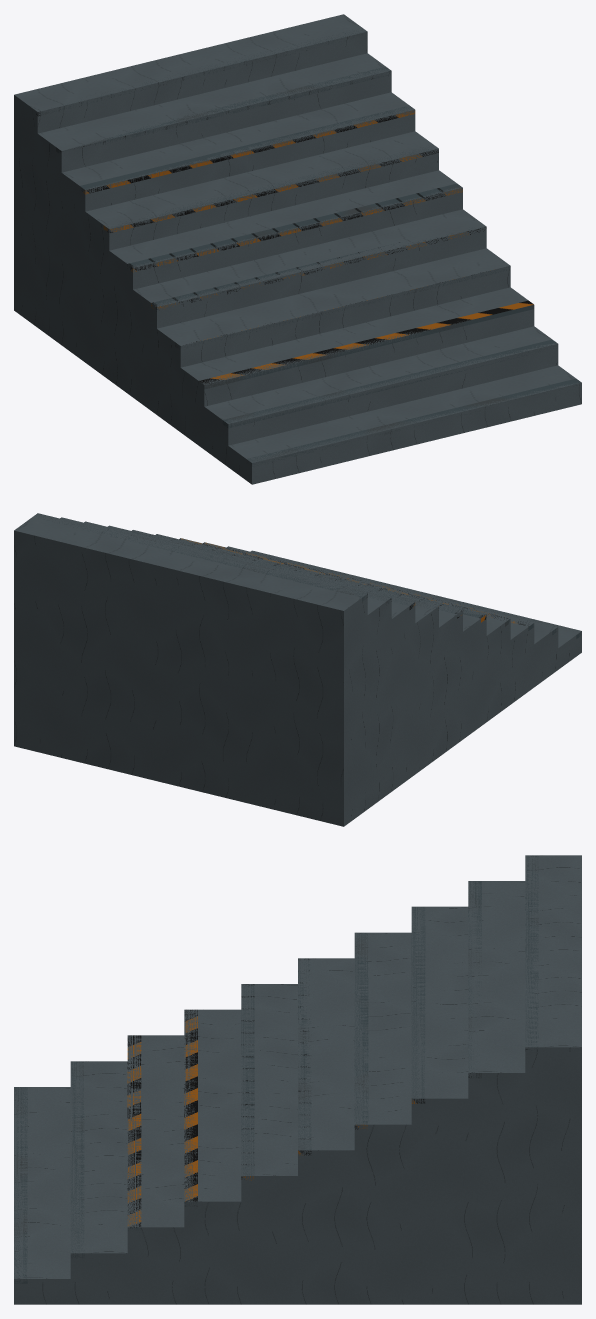
File: Platform_Stairs4x5.fbx
3 renders of one model, top to bottom at view 1: azimuth 30°, elevation 25°; view 2: azimuth 150°, elevation 25°; view 3: azimuth 270°, elevation 25°, orthographic. The views are drawn at different scales.
Parts seen in each view (by area): view 1: ENV_Foundry_Platform_Stairs4x5_LOD0, COL_Foundry_Platform_Stairs4x5_10_Move, COL_Foundry_Platform_Stairs4x5_09_Shot, COL_Foundry_Platform_Stairs4x5_08_Shot, COL_Foundry_Platform_Stairs4x5_07_Shot, COL_Foundry_Platform_Stairs4x5_03_Shot, COL_Foundry_Platform_Stairs4x5_06_Shot, COL_Foundry_Platform_Stairs4x5_04_Shot, COL_Foundry_Platform_Stairs4x5_01_Shot, COL_Foundry_Platform_Stairs4x5_00_Shot, COL_Foundry_Platform_Stairs4x5_02_Shot, COL_Foundry_Platform_Stairs4x5_05_Shot; view 2: COL_Foundry_Platform_Stairs4x5_09_Shot, COL_Foundry_Platform_Stairs4x5_08_Shot, COL_Foundry_Platform_Stairs4x5_10_Move, COL_Foundry_Platform_Stairs4x5_07_Shot, COL_Foundry_Platform_Stairs4x5_06_Shot, COL_Foundry_Platform_Stairs4x5_05_Shot, ENV_Foundry_Platform_Stairs4x5_LOD0, COL_Foundry_Platform_Stairs4x5_04_Shot, COL_Foundry_Platform_Stairs4x5_03_Shot, COL_Foundry_Platform_Stairs4x5_02_Shot, COL_Foundry_Platform_Stairs4x5_01_Shot, COL_Foundry_Platform_Stairs4x5_00_Shot; view 3: COL_Foundry_Platform_Stairs4x5_10_Move, COL_Foundry_Platform_Stairs4x5_09_Shot, COL_Foundry_Platform_Stairs4x5_08_Shot, COL_Foundry_Platform_Stairs4x5_07_Shot, COL_Foundry_Platform_Stairs4x5_06_Shot, COL_Foundry_Platform_Stairs4x5_05_Shot, ENV_Foundry_Platform_Stairs4x5_LOD0, COL_Foundry_Platform_Stairs4x5_04_Shot, COL_Foundry_Platform_Stairs4x5_03_Shot, COL_Foundry_Platform_Stairs4x5_02_Shot, COL_Foundry_Platform_Stairs4x5_01_Shot, COL_Foundry_Platform_Stairs4x5_00_Shot.
Boxes of the visible parts, bbox=[...] form: ENV_Foundry_Platform_Stairs4x5_LOD0: bbox=[36, 29, 580, 466]; COL_Foundry_Platform_Stairs4x5_10_Move: bbox=[14, 95, 249, 482]; COL_Foundry_Platform_Stairs4x5_09_Shot: bbox=[14, 14, 367, 327]; COL_Foundry_Platform_Stairs4x5_08_Shot: bbox=[37, 53, 391, 344]; COL_Foundry_Platform_Stairs4x5_07_Shot: bbox=[61, 92, 415, 362]; COL_Foundry_Platform_Stairs4x5_03_Shot: bbox=[157, 248, 510, 431]; COL_Foundry_Platform_Stairs4x5_06_Shot: bbox=[85, 131, 438, 375]; COL_Foundry_Platform_Stairs4x5_04_Shot: bbox=[133, 209, 486, 413]; COL_Foundry_Platform_Stairs4x5_01_Shot: bbox=[205, 326, 558, 464]; COL_Foundry_Platform_Stairs4x5_00_Shot: bbox=[228, 365, 581, 484]; COL_Foundry_Platform_Stairs4x5_02_Shot: bbox=[180, 287, 534, 447]; COL_Foundry_Platform_Stairs4x5_05_Shot: bbox=[109, 170, 462, 385]; COL_Foundry_Platform_Stairs4x5_09_Shot: bbox=[14, 513, 367, 826]; COL_Foundry_Platform_Stairs4x5_08_Shot: bbox=[60, 517, 391, 808]; COL_Foundry_Platform_Stairs4x5_10_Move: bbox=[344, 611, 580, 825]; COL_Foundry_Platform_Stairs4x5_07_Shot: bbox=[84, 521, 415, 791]; COL_Foundry_Platform_Stairs4x5_06_Shot: bbox=[108, 525, 438, 774]; COL_Foundry_Platform_Stairs4x5_05_Shot: bbox=[132, 530, 462, 756]; ENV_Foundry_Platform_Stairs4x5_LOD0: bbox=[36, 513, 581, 638]; COL_Foundry_Platform_Stairs4x5_04_Shot: bbox=[155, 534, 486, 739]; COL_Foundry_Platform_Stairs4x5_03_Shot: bbox=[179, 538, 510, 720]; COL_Foundry_Platform_Stairs4x5_02_Shot: bbox=[203, 542, 534, 704]; COL_Foundry_Platform_Stairs4x5_01_Shot: bbox=[227, 546, 558, 686]; COL_Foundry_Platform_Stairs4x5_00_Shot: bbox=[251, 550, 581, 660]; COL_Foundry_Platform_Stairs4x5_10_Move: bbox=[15, 1051, 581, 1304]; COL_Foundry_Platform_Stairs4x5_09_Shot: bbox=[525, 855, 581, 1304]; COL_Foundry_Platform_Stairs4x5_08_Shot: bbox=[468, 881, 525, 1304]; COL_Foundry_Platform_Stairs4x5_07_Shot: bbox=[411, 906, 468, 1304]; COL_Foundry_Platform_Stairs4x5_06_Shot: bbox=[354, 932, 411, 1304]; COL_Foundry_Platform_Stairs4x5_05_Shot: bbox=[298, 958, 354, 1304]; ENV_Foundry_Platform_Stairs4x5_LOD0: bbox=[14, 855, 538, 1283]; COL_Foundry_Platform_Stairs4x5_04_Shot: bbox=[241, 984, 297, 1304]; COL_Foundry_Platform_Stairs4x5_03_Shot: bbox=[184, 1009, 241, 1304]; COL_Foundry_Platform_Stairs4x5_02_Shot: bbox=[127, 1035, 184, 1304]; COL_Foundry_Platform_Stairs4x5_01_Shot: bbox=[70, 1061, 127, 1304]; COL_Foundry_Platform_Stairs4x5_00_Shot: bbox=[14, 1087, 70, 1304].
Size of what is drawn, in the model's own units: 4 by 2.5 by 5.
